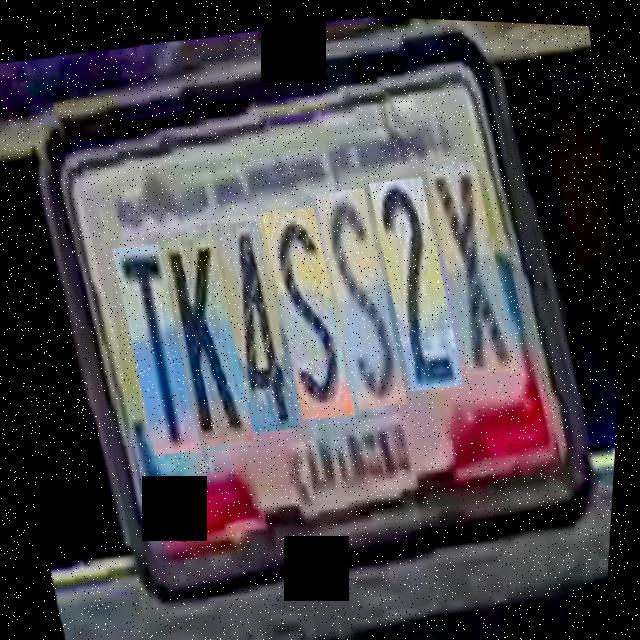2: (356, 164, 470, 388)
4: (199, 207, 305, 428)
K: (147, 217, 260, 443)
S: (303, 175, 414, 406), (249, 193, 361, 417)
T: (100, 229, 206, 452)
X: (413, 148, 524, 374)
